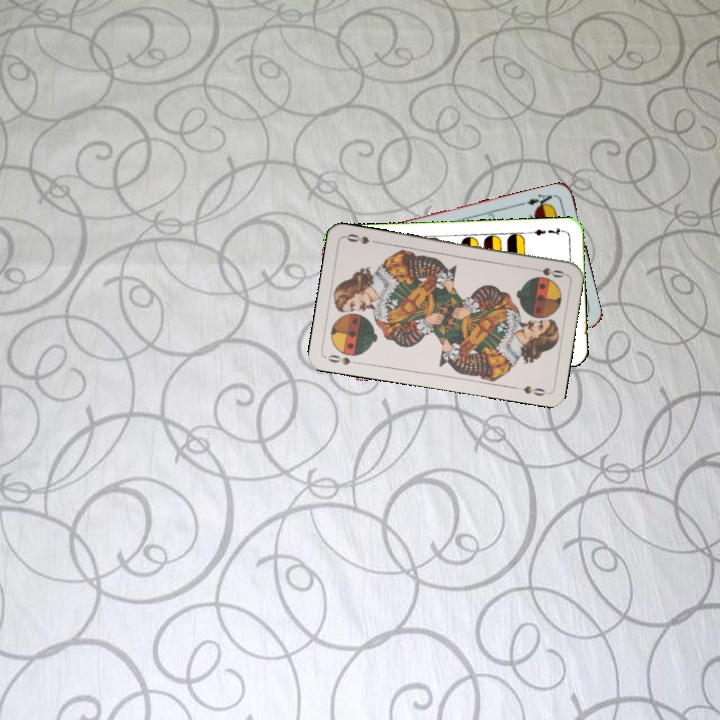E7: (526, 224, 567, 238)
EA: (523, 190, 558, 211)
SO: (528, 263, 568, 280), (324, 350, 353, 368)
